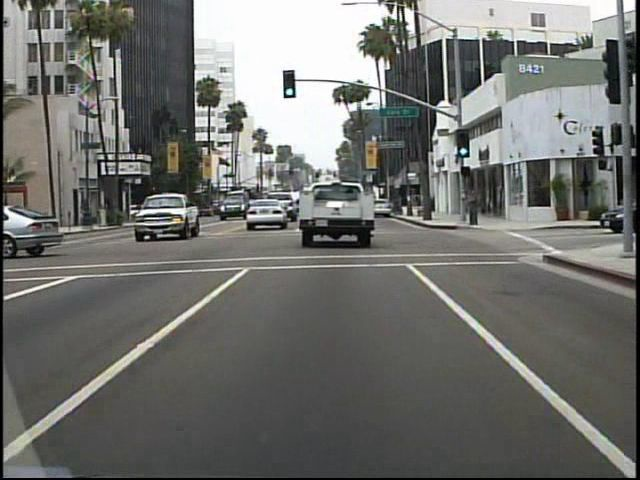person: (464, 180, 482, 229)
